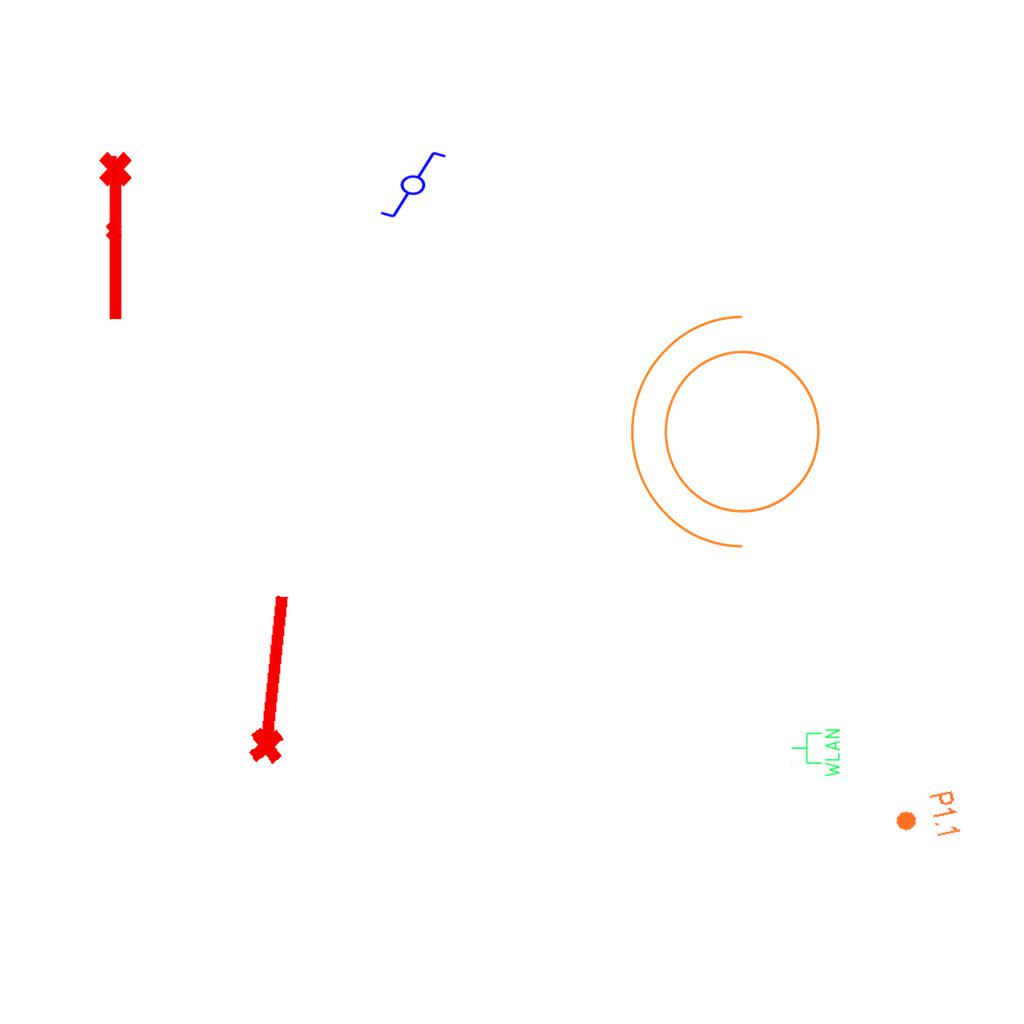ASR_Ansaugoeffnung: (238, 588, 304, 768), (95, 149, 141, 325), (101, 153, 124, 241)
Downlight_LED_Einbauleuchten_Flur: (890, 788, 964, 848)
Scheinwerfer_fuer_Alarmbeleuchtung: (620, 306, 845, 570)
WLAN: (790, 727, 842, 779)
Wechselschalter: (370, 148, 448, 220)
